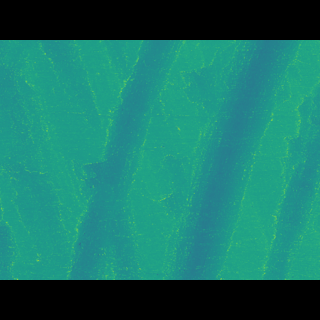Loch: (154, 69, 307, 248), (60, 70, 189, 250), (253, 102, 320, 250)
